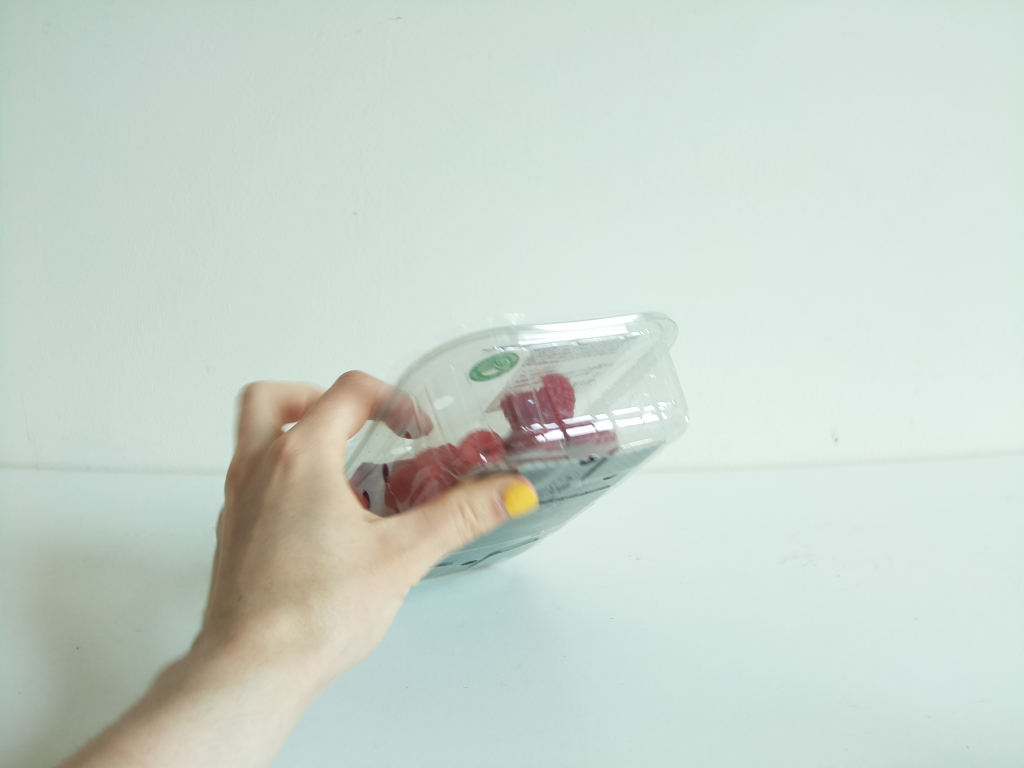soft-fruit: (329, 312, 691, 582)
